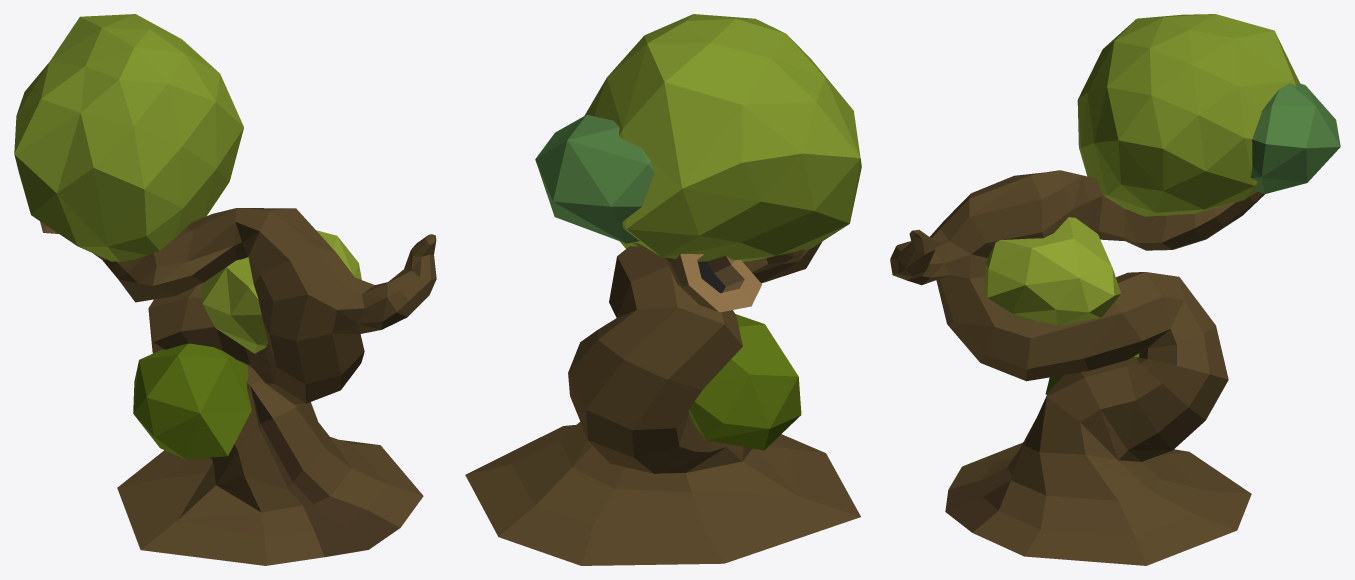
The model's file is EM_Tree1b.fbx.
The picture shows the model from 3 angles, left to right: view 1: azimuth 30°, elevation 25°; view 2: azimuth 150°, elevation 25°; view 3: azimuth 270°, elevation 25°; orthographic projection. The views are drawn at different scales.
Visible parts, largest first — view 1: EM_Tree1b_LOD0; view 2: EM_Tree1b_LOD0; view 3: EM_Tree1b_LOD0.
Boxes of the visible parts, x1,y1,x2,y2 form: EM_Tree1b_LOD0: [14, 14, 436, 565]; EM_Tree1b_LOD0: [465, 14, 861, 565]; EM_Tree1b_LOD0: [890, 14, 1340, 565].
Size of what is drawn, in the model's own units: 3.91 by 4.81 by 4.49.
